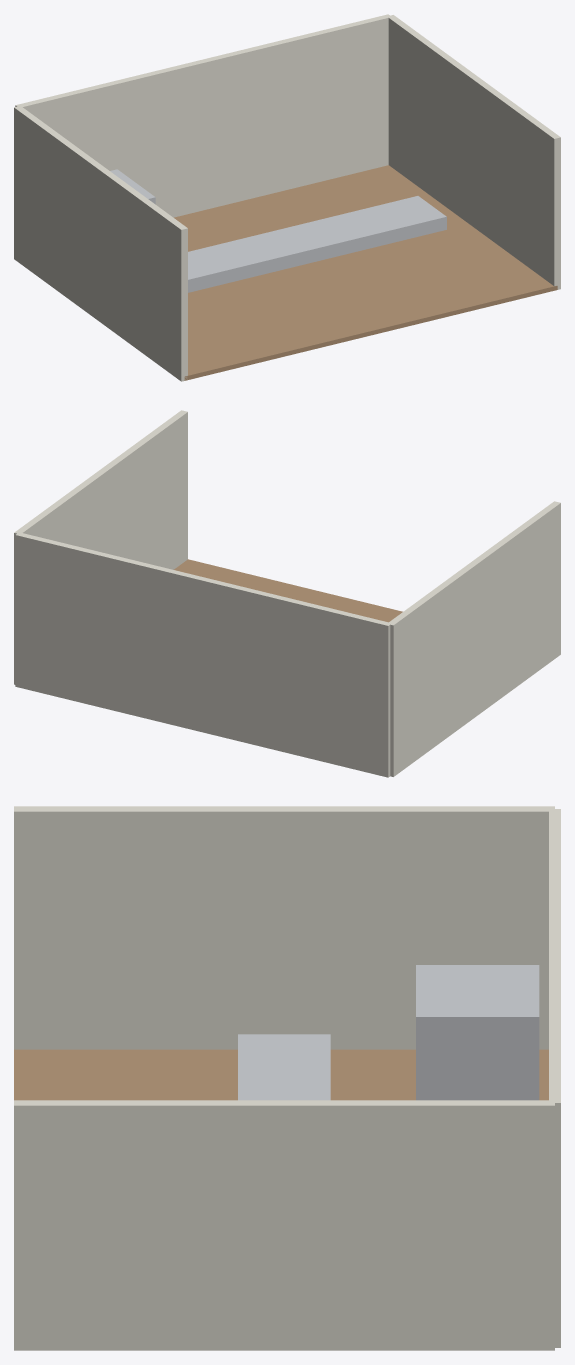
The model's file is fish_plant_floor.glb.
3 views of the same model, one above another, from view 1: azimuth 30°, elevation 25°; view 2: azimuth 150°, elevation 25°; view 3: azimuth 270°, elevation 25° (orthographic). The views are drawn at different scales.
Parts seen in each view (by area): view 1: back, floor, left, right, conveyor; view 2: back, left, right, floor; view 3: right, left, tank, floor, conveyor, back.
Part boxes in pixels (x1,y1,x2,y2): back: (15,14,391,217); floor: (174,165,557,380); left: (14,106,187,381); right: (388,15,560,289); conveyor: (188,196,446,292); back: (15,533,391,777); left: (389,501,560,776); right: (14,410,187,684); floor: (174,559,402,622); right: (14,1100,554,1350); left: (14,806,554,1049); tank: (416,965,539,1100); floor: (14,1049,548,1100); conveyor: (238,1034,330,1100); back: (549,809,560,1347).
Bounding box in the file's own units: 9.16 × 3.5 × 7.08.
